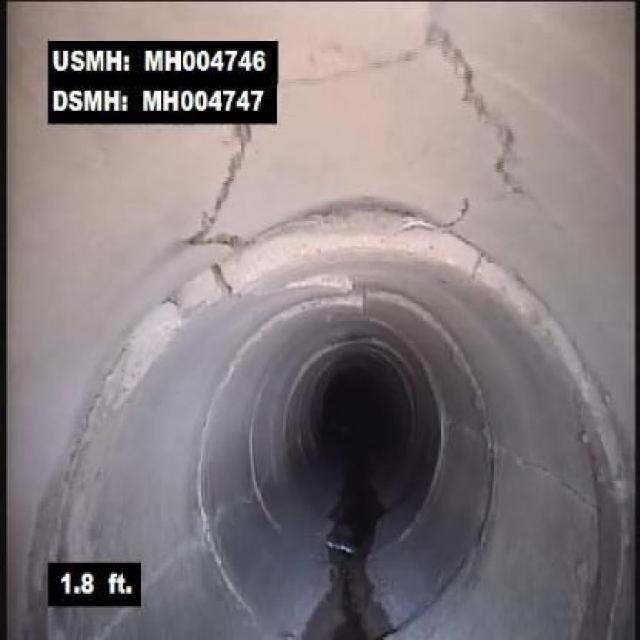Buckling: (419, 17, 523, 194), (152, 126, 260, 252), (286, 266, 371, 322)
Crack: (280, 48, 418, 90), (523, 451, 597, 514)
Joint offset: (264, 194, 482, 266), (486, 257, 582, 374), (122, 254, 256, 332), (584, 374, 630, 489)
